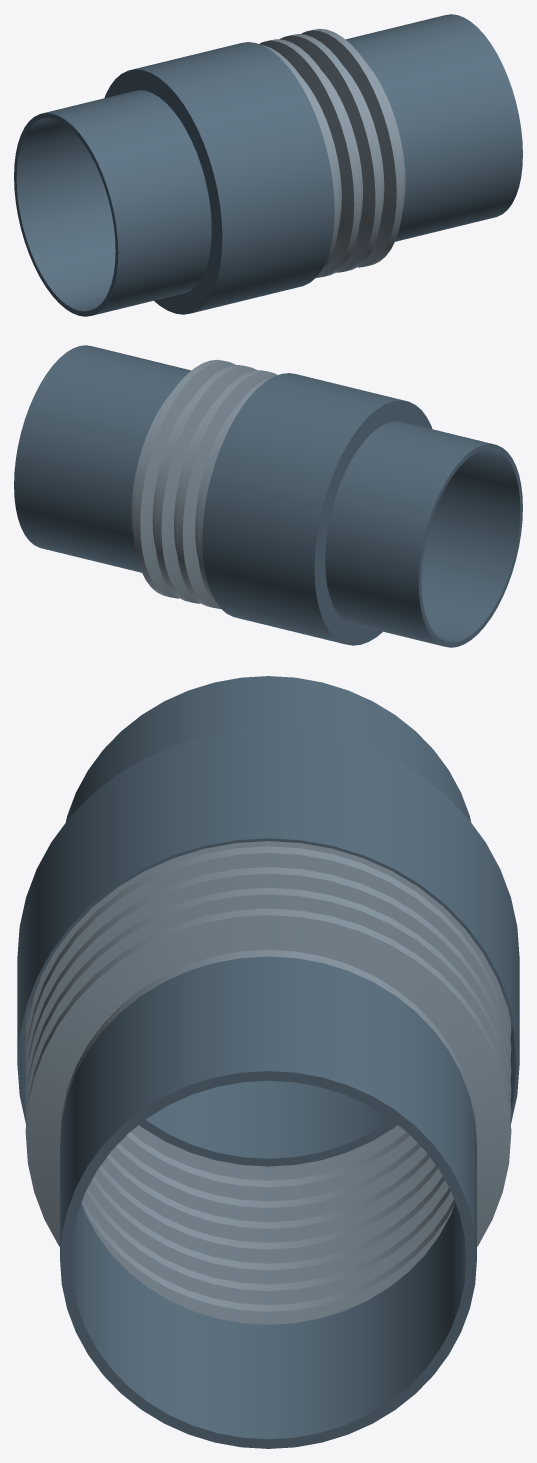
The model's file is silf-dn250-L612-D273-k-o318.glb.
The picture shows the model from 3 angles, top to bottom: view 1: azimuth 30°, elevation 25°; view 2: azimuth 150°, elevation 25°; view 3: azimuth 270°, elevation 25°; orthographic projection. The views are drawn at different scales.
Parts seen in each view (by area): view 1: patrubok_1, osnovanie_kozhuh_1, patrubok_2, prokladka_silfon_1; view 2: patrubok_1, osnovanie_kozhuh_1, patrubok_2, prokladka_silfon_1; view 3: prokladka_silfon_1, patrubok_2, osnovanie_kozhuh_1, patrubok_1.
Part boxes in pixels (bbox=[...]): patrubok_1: bbox=[14, 90, 211, 316]; osnovanie_kozhuh_1: bbox=[104, 42, 334, 314]; patrubok_2: bbox=[345, 14, 522, 241]; prokladka_silfon_1: bbox=[259, 28, 405, 277]; patrubok_1: bbox=[325, 421, 522, 647]; osnovanie_kozhuh_1: bbox=[202, 373, 432, 645]; patrubok_2: bbox=[14, 345, 191, 572]; prokladka_silfon_1: bbox=[131, 359, 277, 608]; prokladka_silfon_1: bbox=[25, 841, 511, 1324]; patrubok_2: bbox=[60, 956, 476, 1448]; osnovanie_kozhuh_1: bbox=[17, 729, 519, 1123]; patrubok_1: bbox=[65, 676, 471, 1166].
Size of the model in its own units: 612 by 329 by 329.
